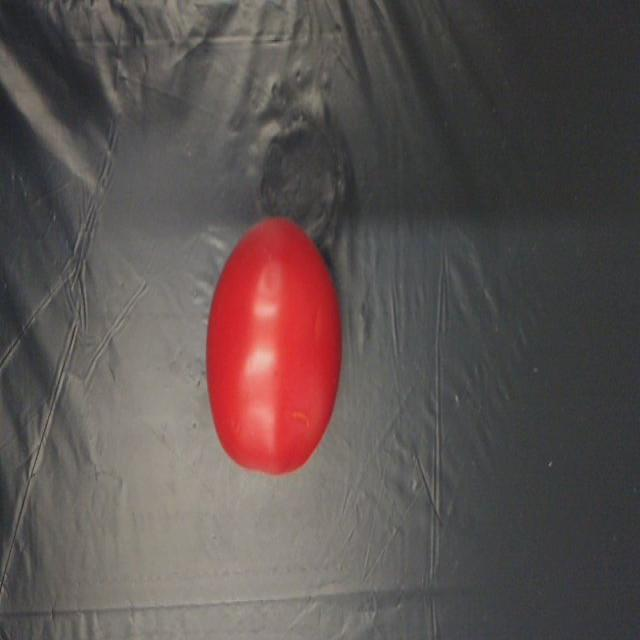kirmizi: (204, 215, 360, 480)
